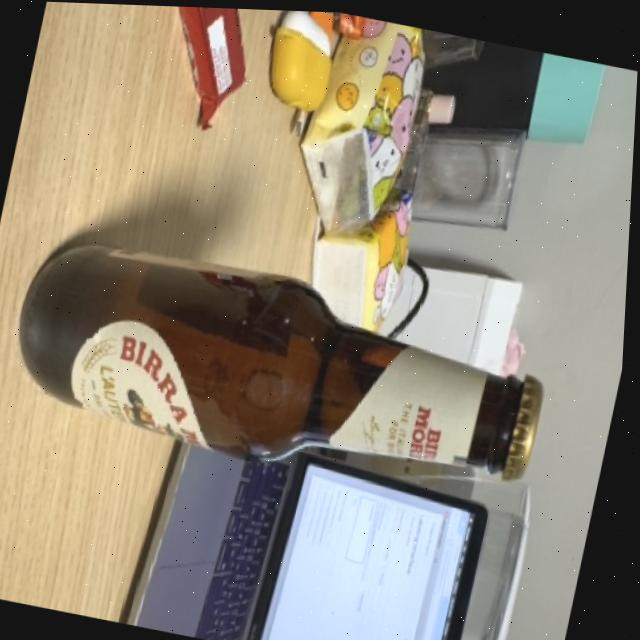beer: (0, 202, 571, 542)
chocolate: (131, 4, 273, 143)
